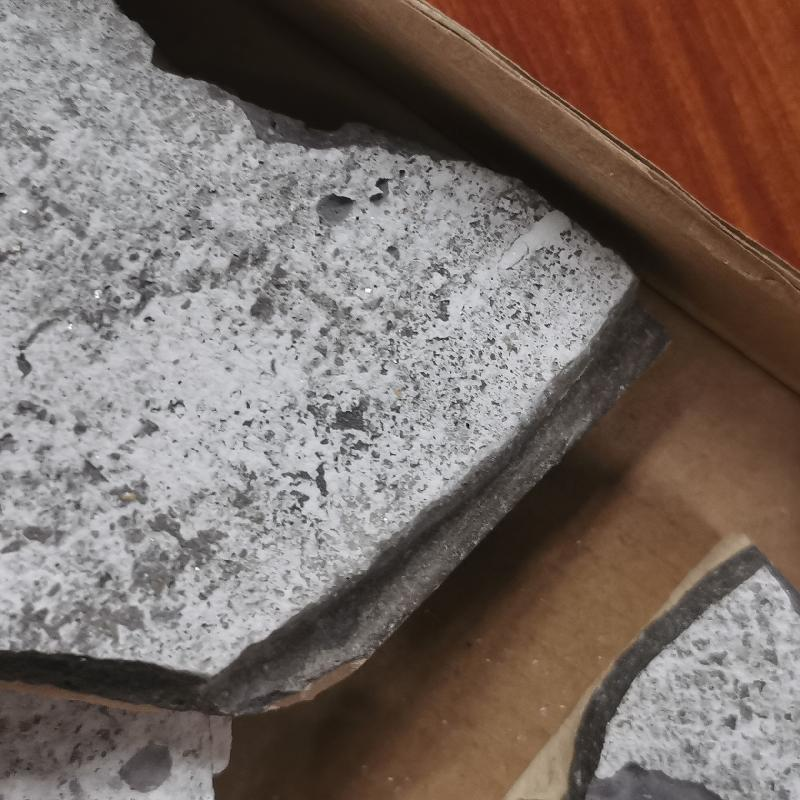tile: (3, 6, 657, 799)
